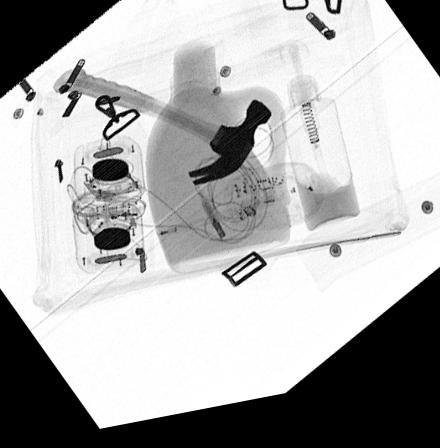Hammer: (52, 69, 272, 194)
